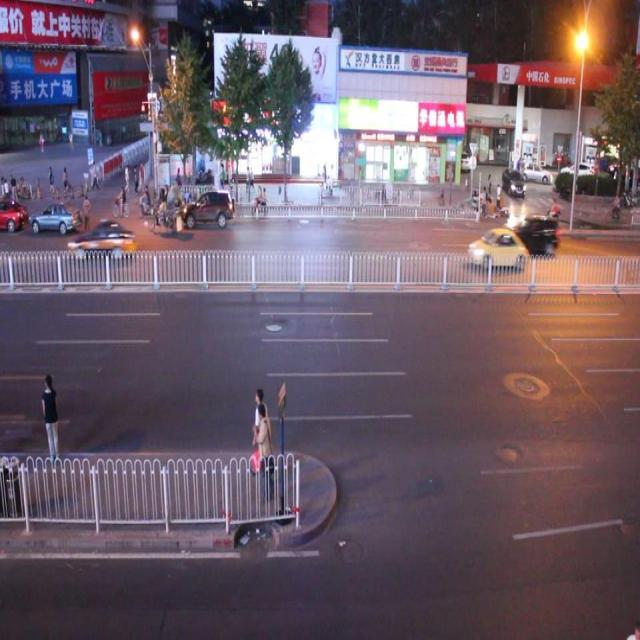car: (65, 217, 136, 264), (466, 226, 528, 272), (500, 211, 558, 257), (175, 184, 230, 228), (22, 199, 78, 234)
